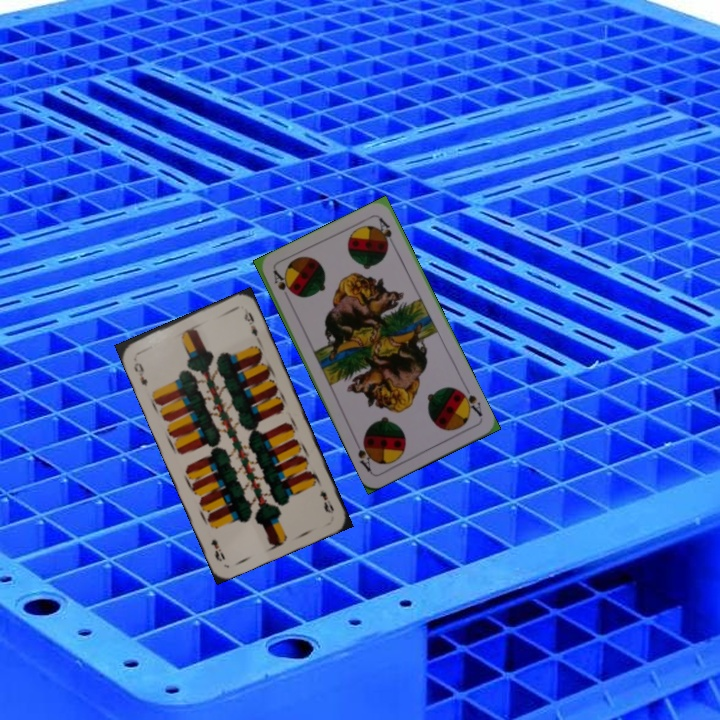E9: (129, 358, 150, 389), (316, 487, 337, 516)
SA: (455, 386, 485, 419), (269, 266, 294, 295)
